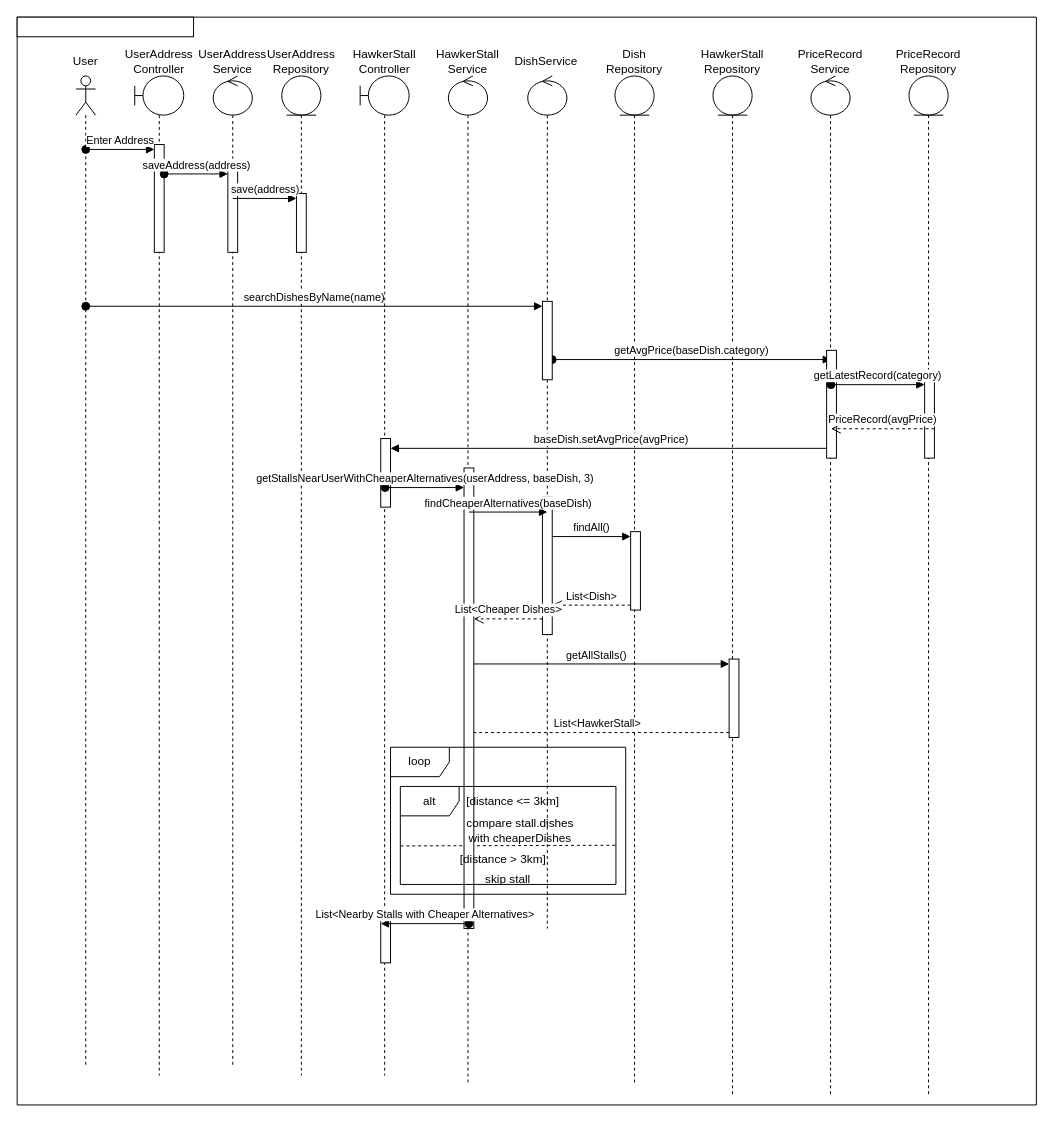
This 1054x1122 diagram has some shape labels left out. Each missing label, with the centre of its shape:
"haversineDistance(userLat, userLon, stallLat, stallLon)" belongs at [547,502].
"sd find cheaper alternatives" belongs at [105,26].
